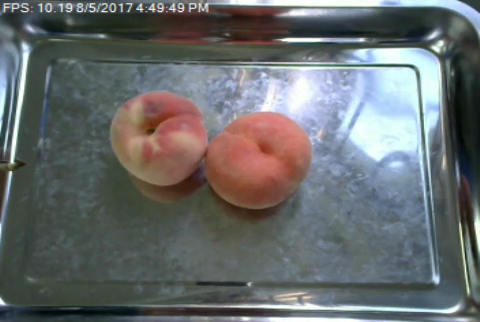Peach: (203, 111, 312, 208), (109, 89, 208, 187)
